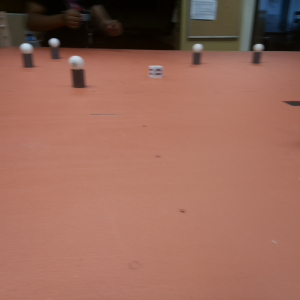obstacle: (68, 55, 85, 86), (20, 43, 34, 67), (50, 38, 60, 60), (193, 43, 202, 65), (255, 43, 262, 65)
